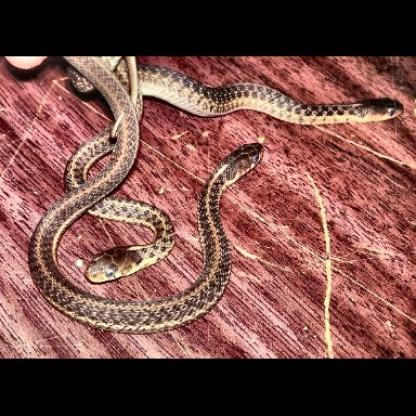Snake: (62, 110, 173, 284), (184, 137, 266, 322), (161, 69, 404, 128)
